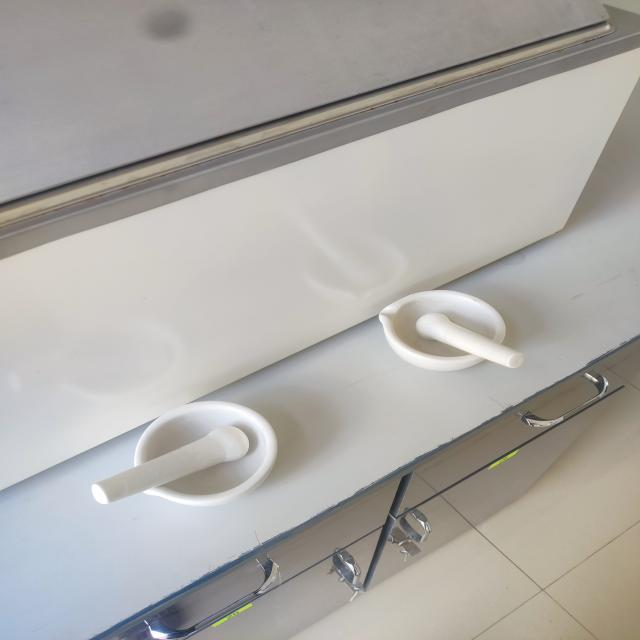Porcelain_Mortar Pestle: (66, 381, 311, 530), (359, 268, 541, 390)
